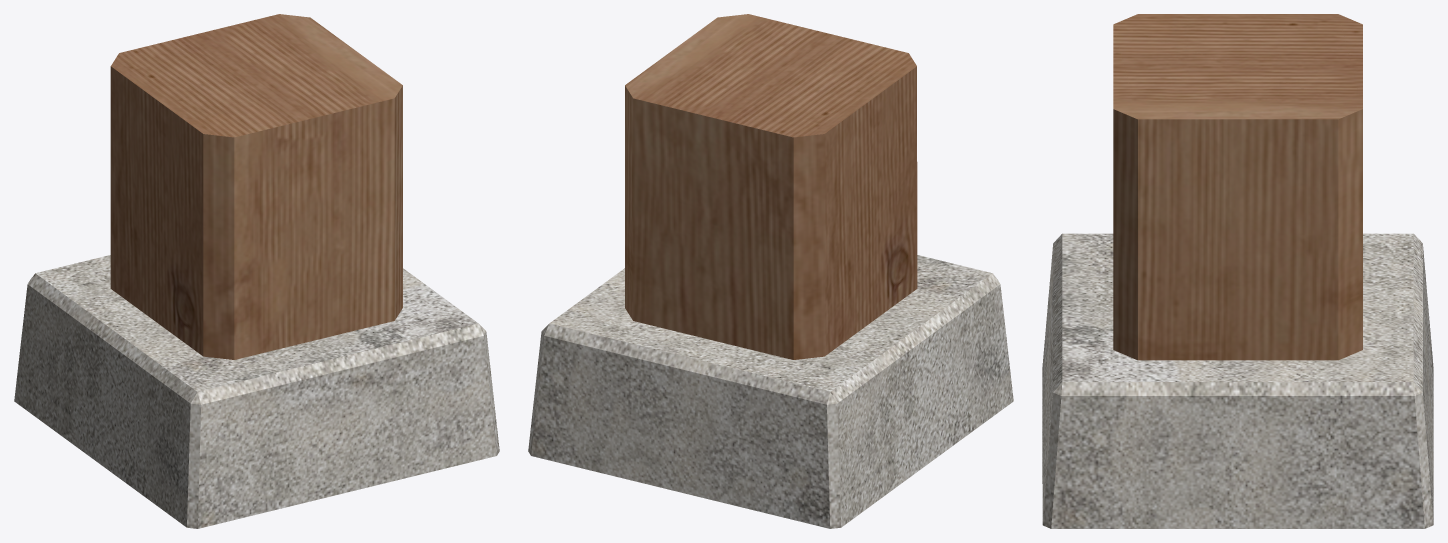
Rendered from SM_Baeryeom_Pillar_B.fbx.
3 renders of one model, left to right at view 1: azimuth 30°, elevation 25°; view 2: azimuth 150°, elevation 25°; view 3: azimuth 270°, elevation 25°, orthographic. The views are drawn at different scales.
Parts seen in each view (by area): view 1: SM_Baeryeom_Pillar_B; view 2: SM_Baeryeom_Pillar_B; view 3: SM_Baeryeom_Pillar_B.
Part boxes in pixels (<box>): SM_Baeryeom_Pillar_B: <box>14,14,499,528</box>; SM_Baeryeom_Pillar_B: <box>528,14,1013,528</box>; SM_Baeryeom_Pillar_B: <box>1042,14,1433,528</box>.
Size of the model in its own units: 18.96 by 20.3 by 18.96.
